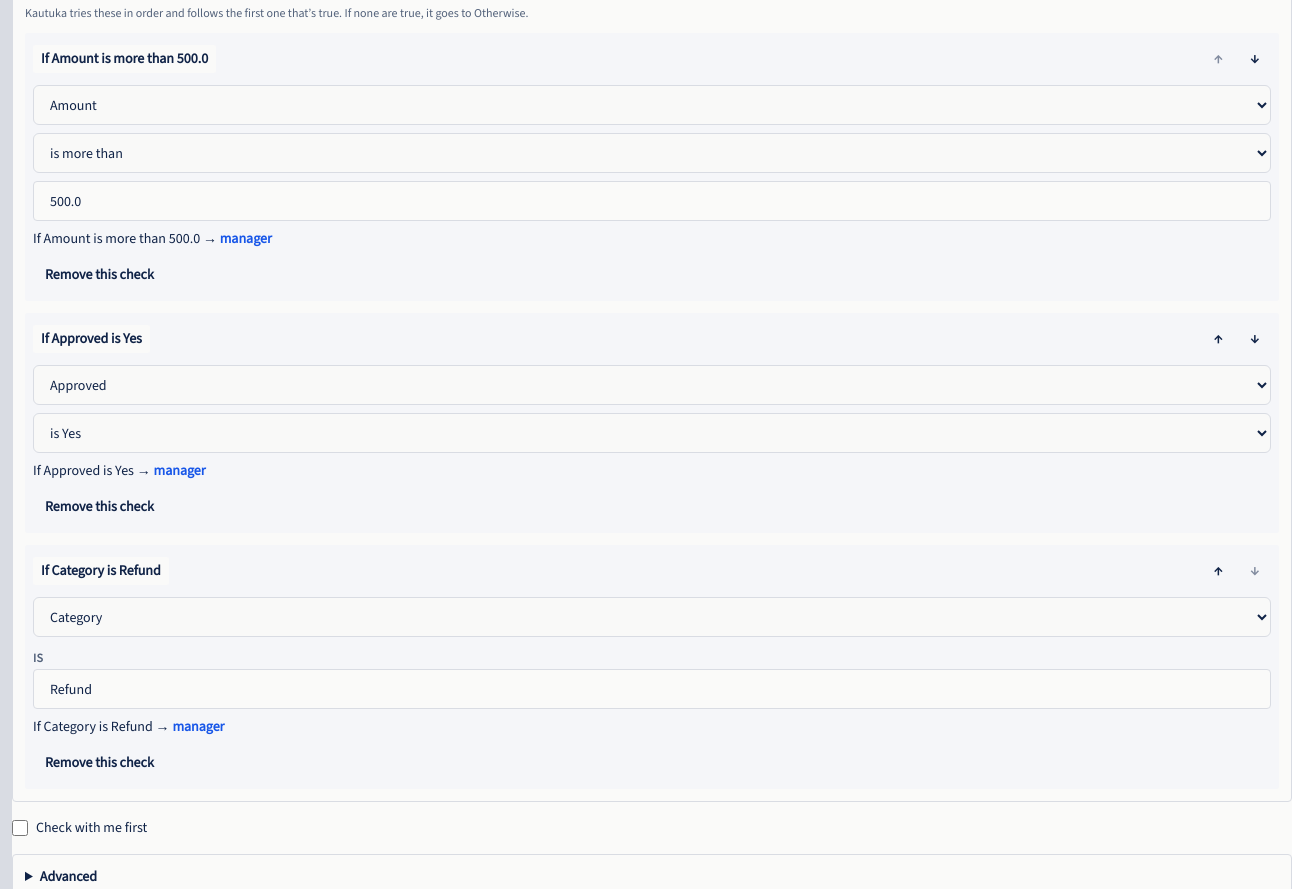
Test: WorkflowStepSettings result-aware checks › restores the saved answer and closes the picker on blur or Escape
(page scrolled)
Replace the text in the dropdown named "If 3 answer" with "Compla" at (652, 689), box [33,669,1271,709]
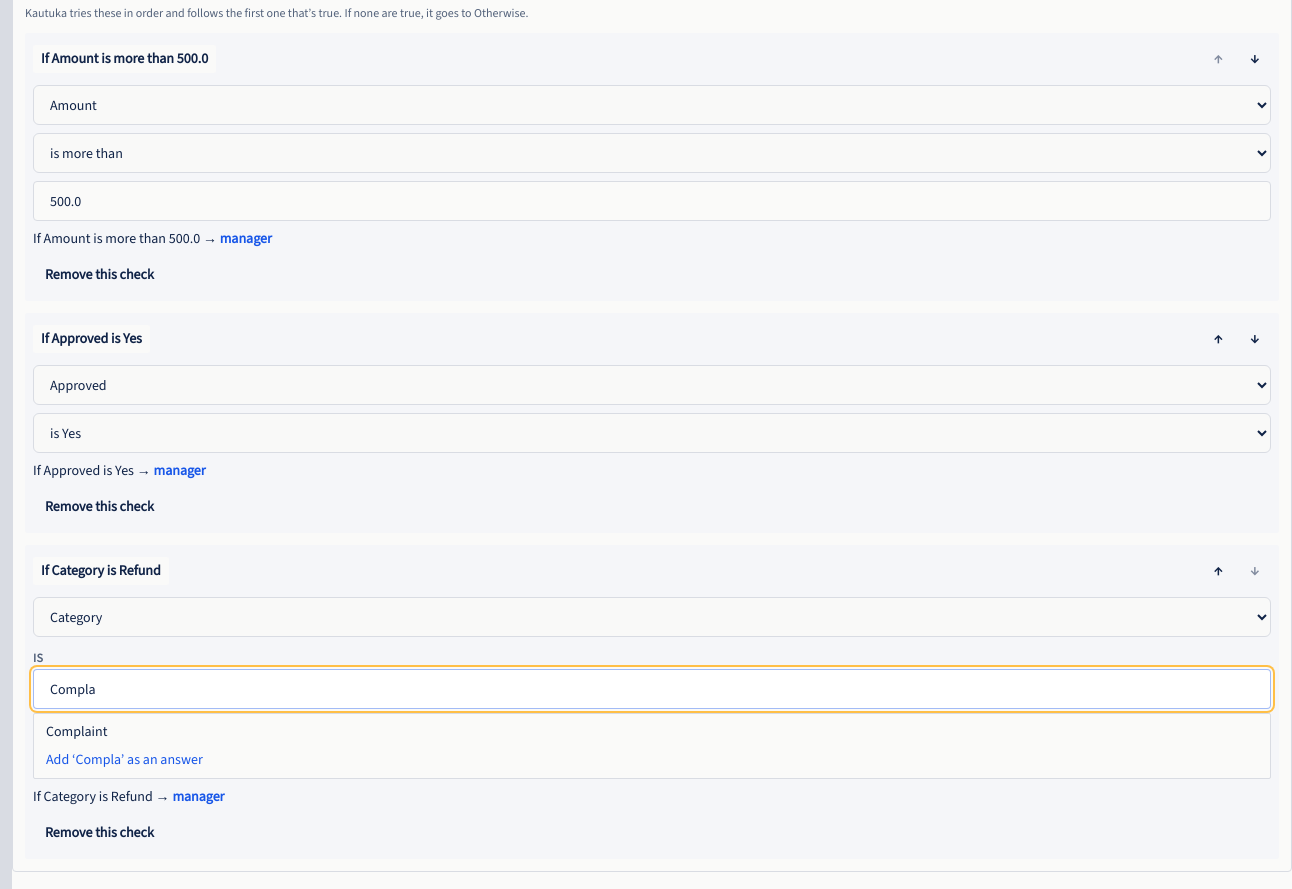
Leave the dropdown named "If 3 answer", box [33,669,1271,709]
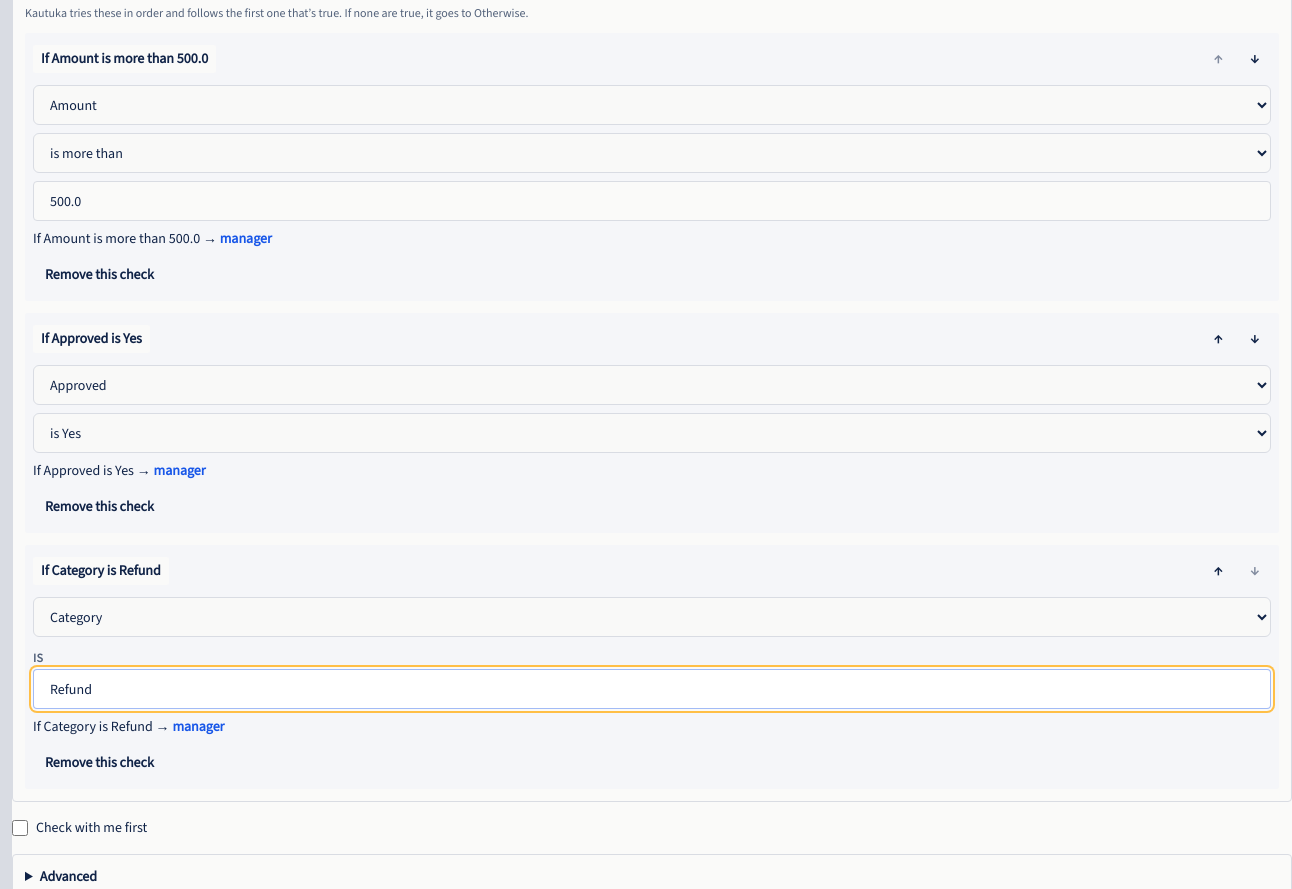
Check: the dropdown named "If 3 answer" holds "Refund"
Replace the text in the dropdown named "If 3 answer" with "Compla" at (652, 689), box [33,669,1271,709]
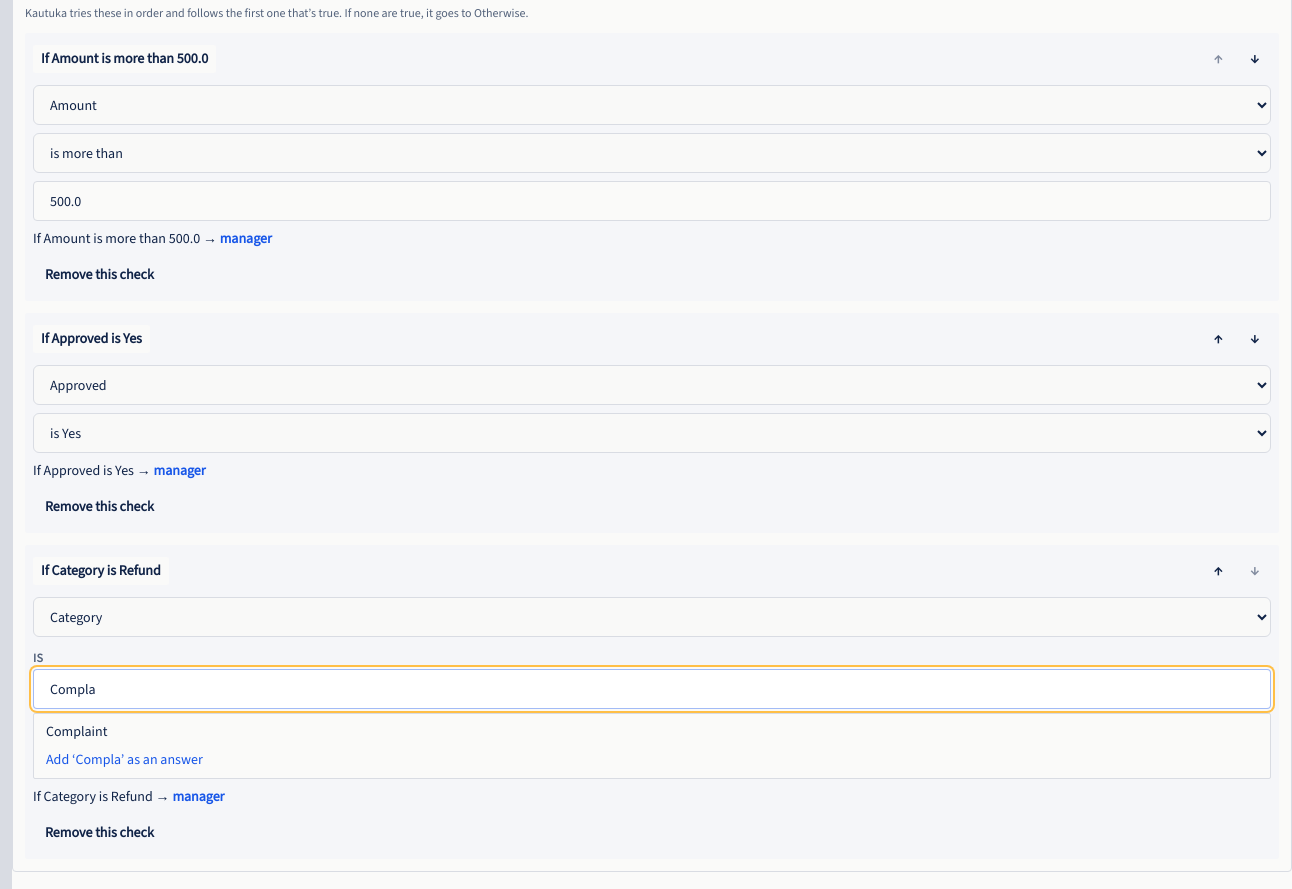
Press Escape in the dropdown named "If 3 answer", box [33,669,1271,709]
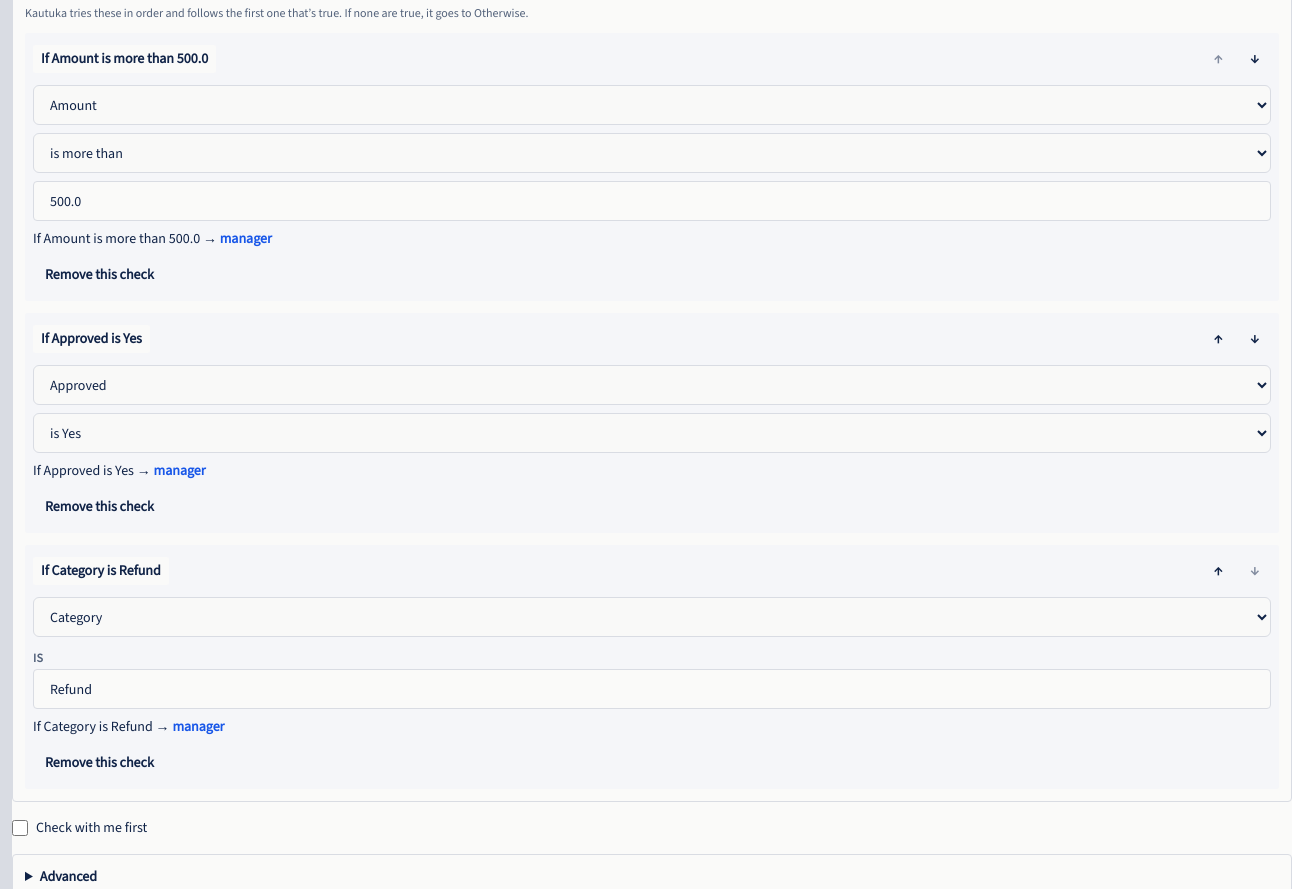
Check: the dropdown named "If 3 answer" holds "Refund", box [33,669,1271,709]
